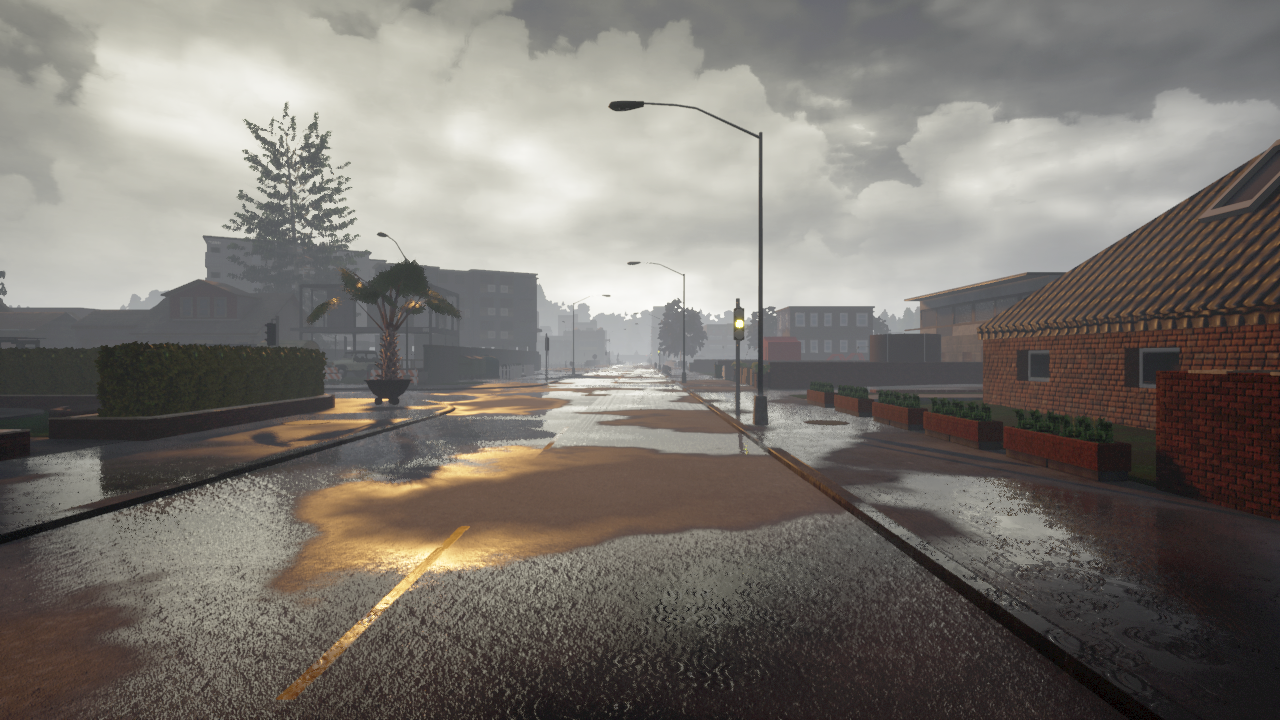yellow: (732, 305, 745, 340)
